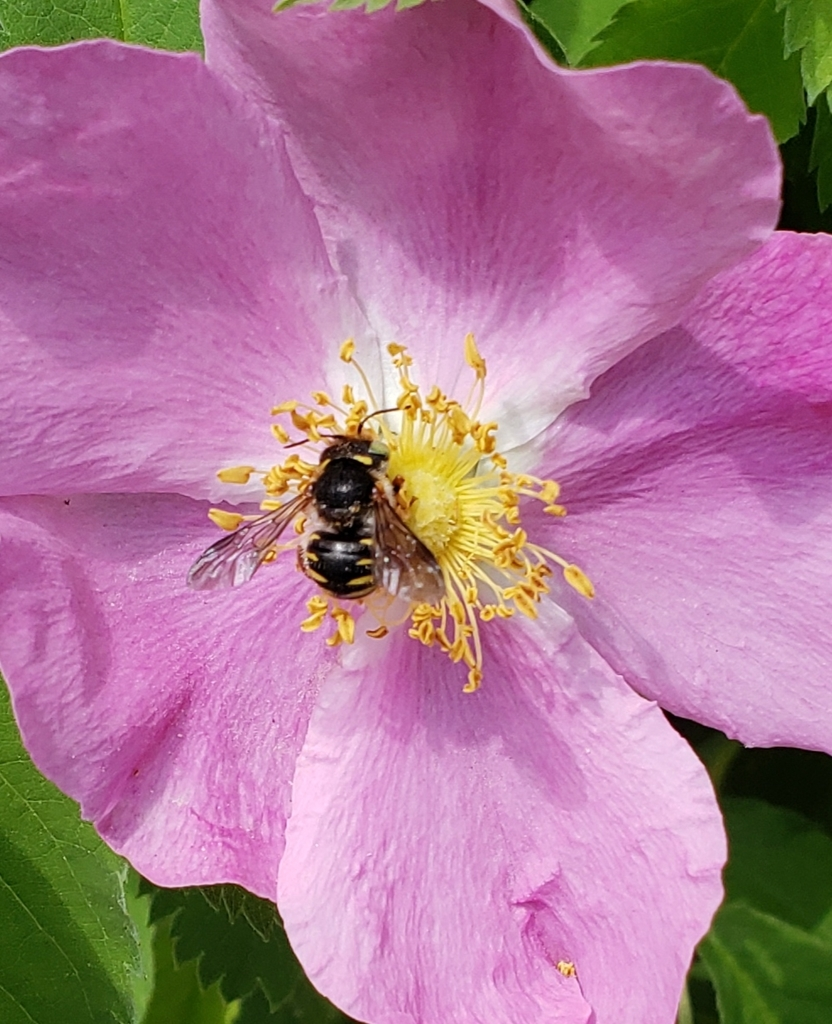not_bumblebee: (184, 405, 449, 606)
